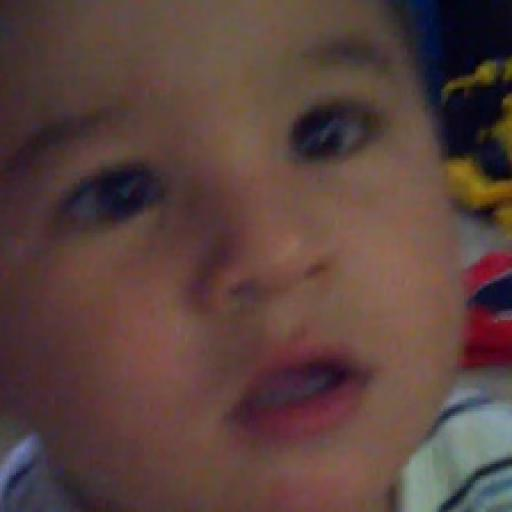Autism: (19, 0, 464, 512)
